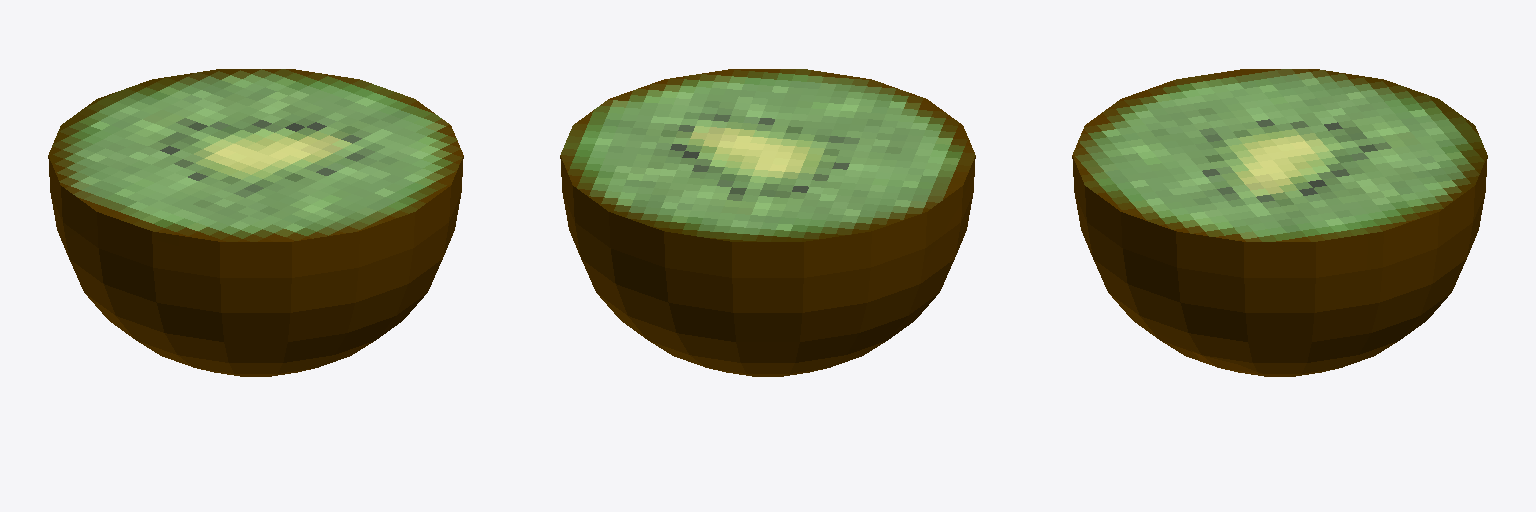
3 views of the same model, side by side, from view 1: azimuth 30°, elevation 25°; view 2: azimuth 150°, elevation 25°; view 3: azimuth 270°, elevation 25° (orthographic).
Visible parts, largest first — view 1: Sphere; view 2: Sphere; view 3: Sphere.
Boxes of the visible parts, x1=… form: Sphere: x1=48, y1=69, x2=463, y2=376; Sphere: x1=560, y1=69, x2=975, y2=376; Sphere: x1=1072, y1=69, x2=1487, y2=376.
Bounding box in the file's own units: 2.03 × 1.1 × 2.06.
Materials: 1 (1 with a texture image).